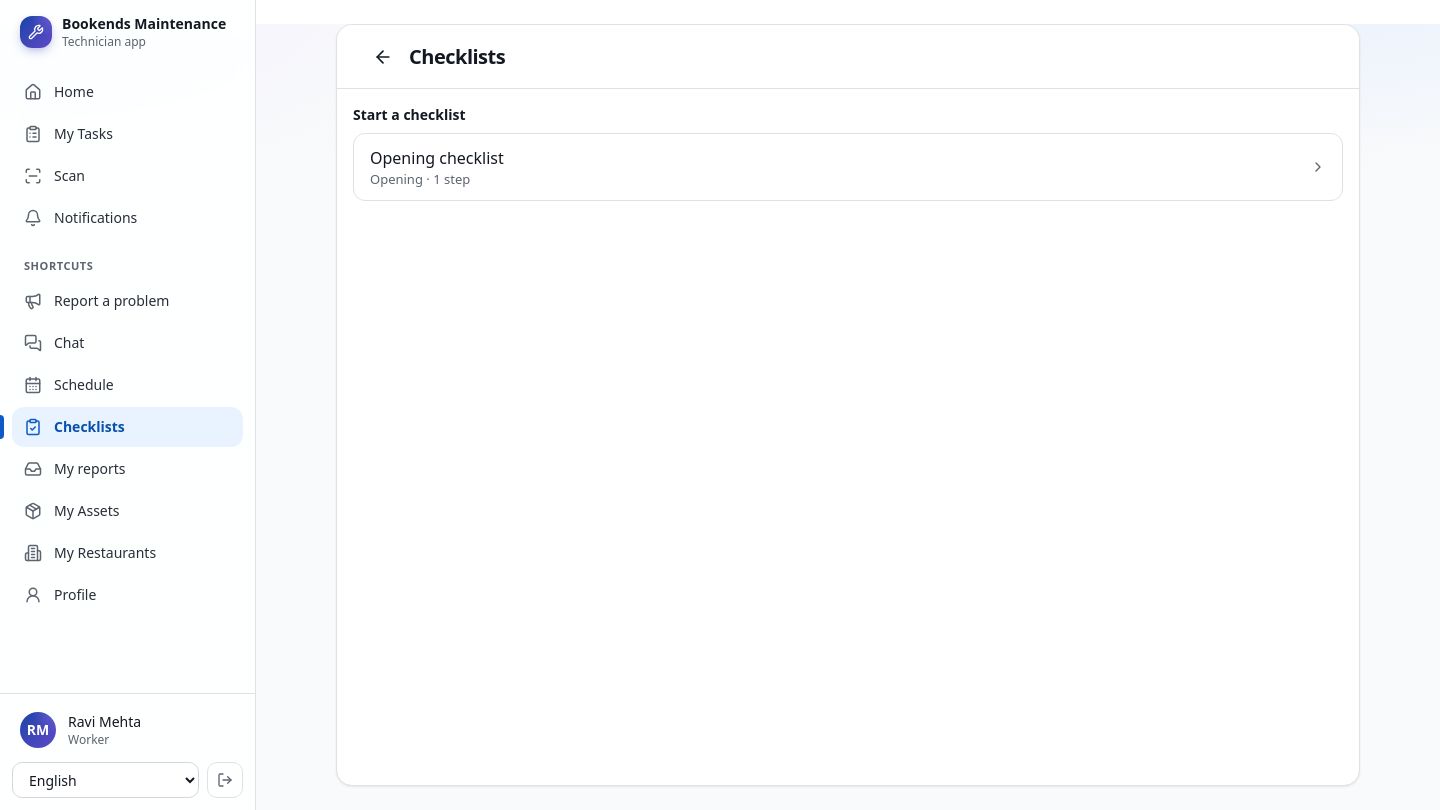
Test: worker inspection › starts a checklist, answers it and submits
The width and height of the screenshot is (1440, 810).
Click the button "Opening checklist Opening · 1 step" at {"x": 437, "y": 158}, box [353, 133, 1343, 201]
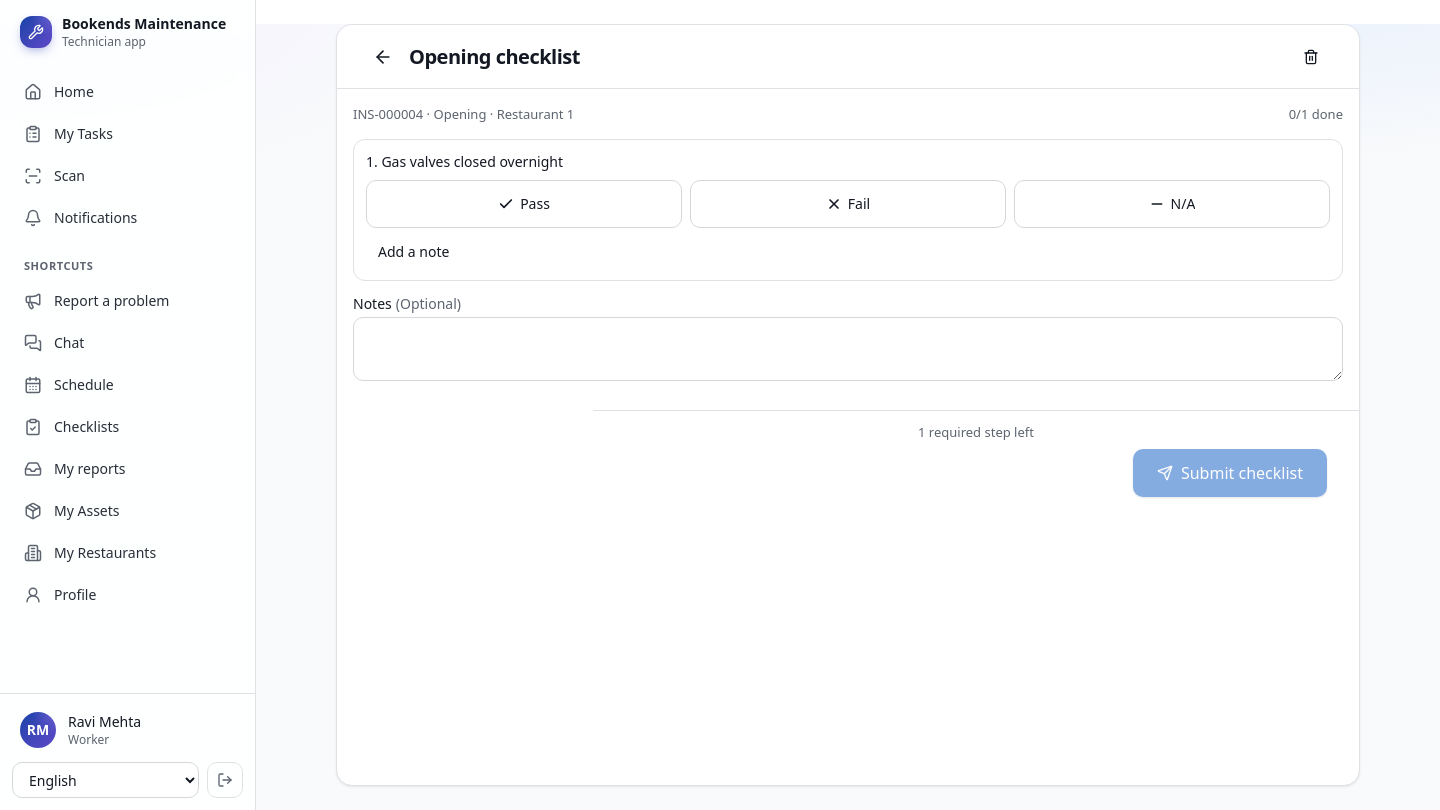
Now the button "Submit checklist" is disabled, box [1133, 449, 1327, 497]
Click the radio button labelled "Fail" at {"x": 848, "y": 204}, box [690, 180, 1006, 228]
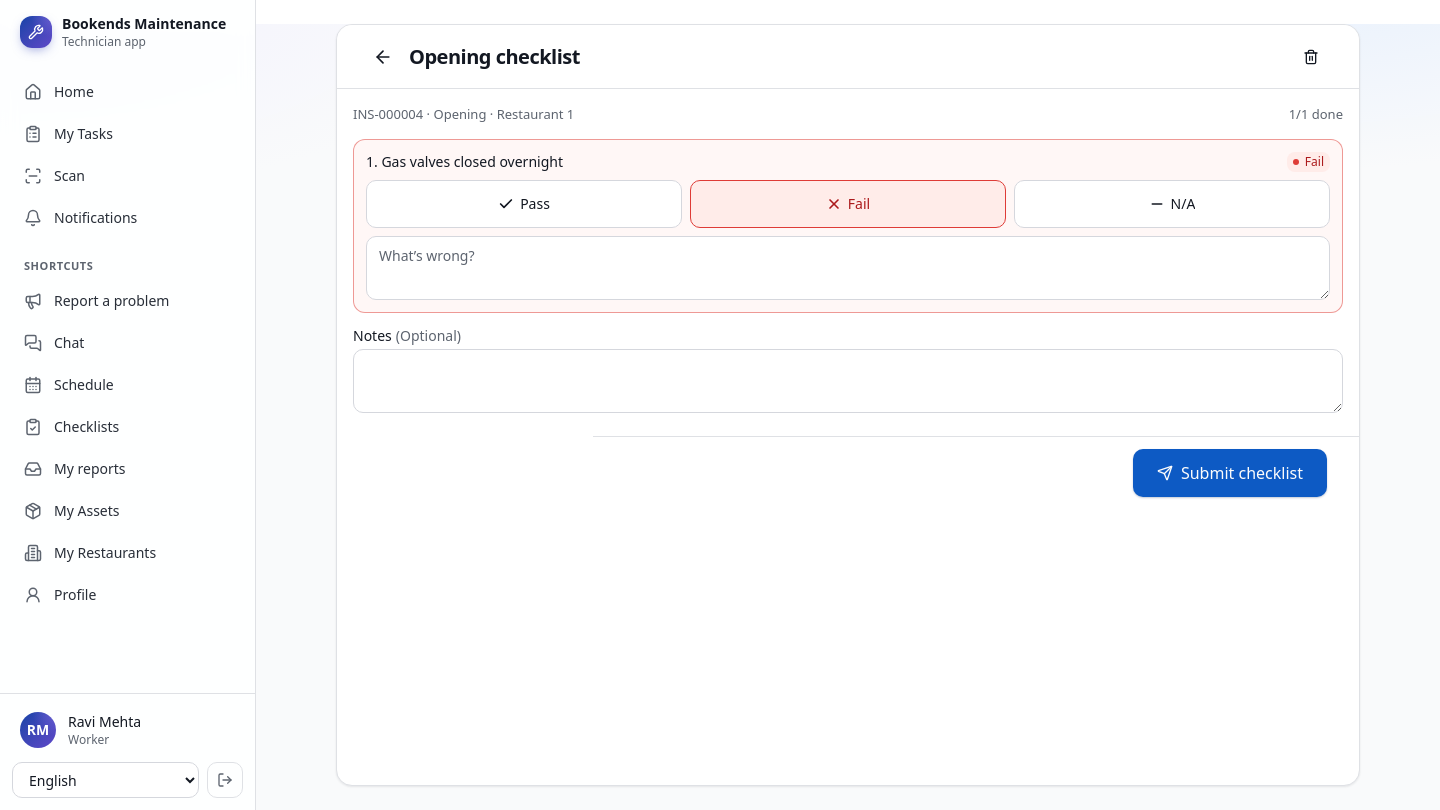
Type "Left open" into the text box named "Note for Gas valves" at {"x": 848, "y": 268}, box [366, 236, 1330, 300]
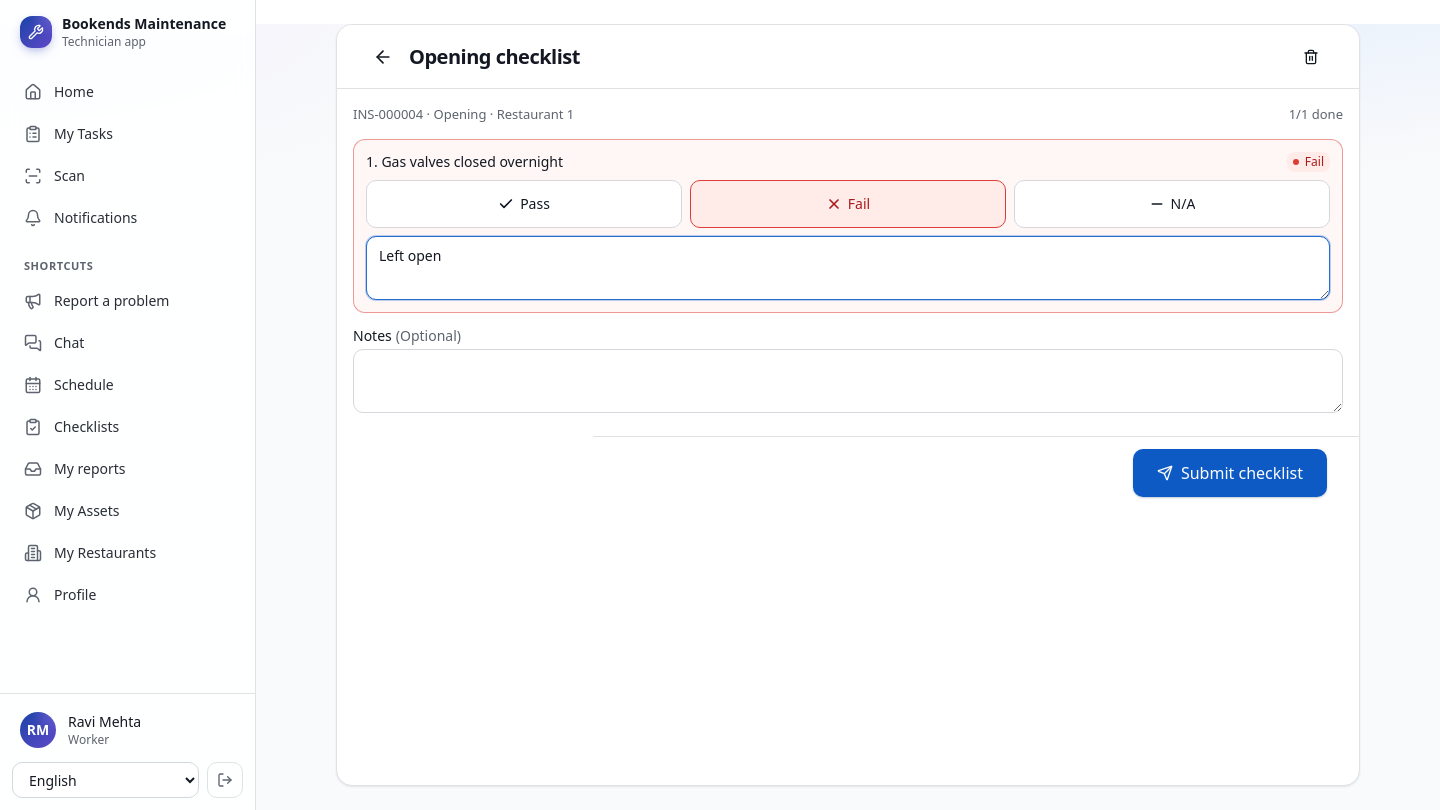
Now the button "Submit checklist" is enabled, box [1133, 449, 1327, 497]
Type "Told the manager" into the text box labelled "Notes (Optional)" at {"x": 848, "y": 381}, box [353, 349, 1343, 413]
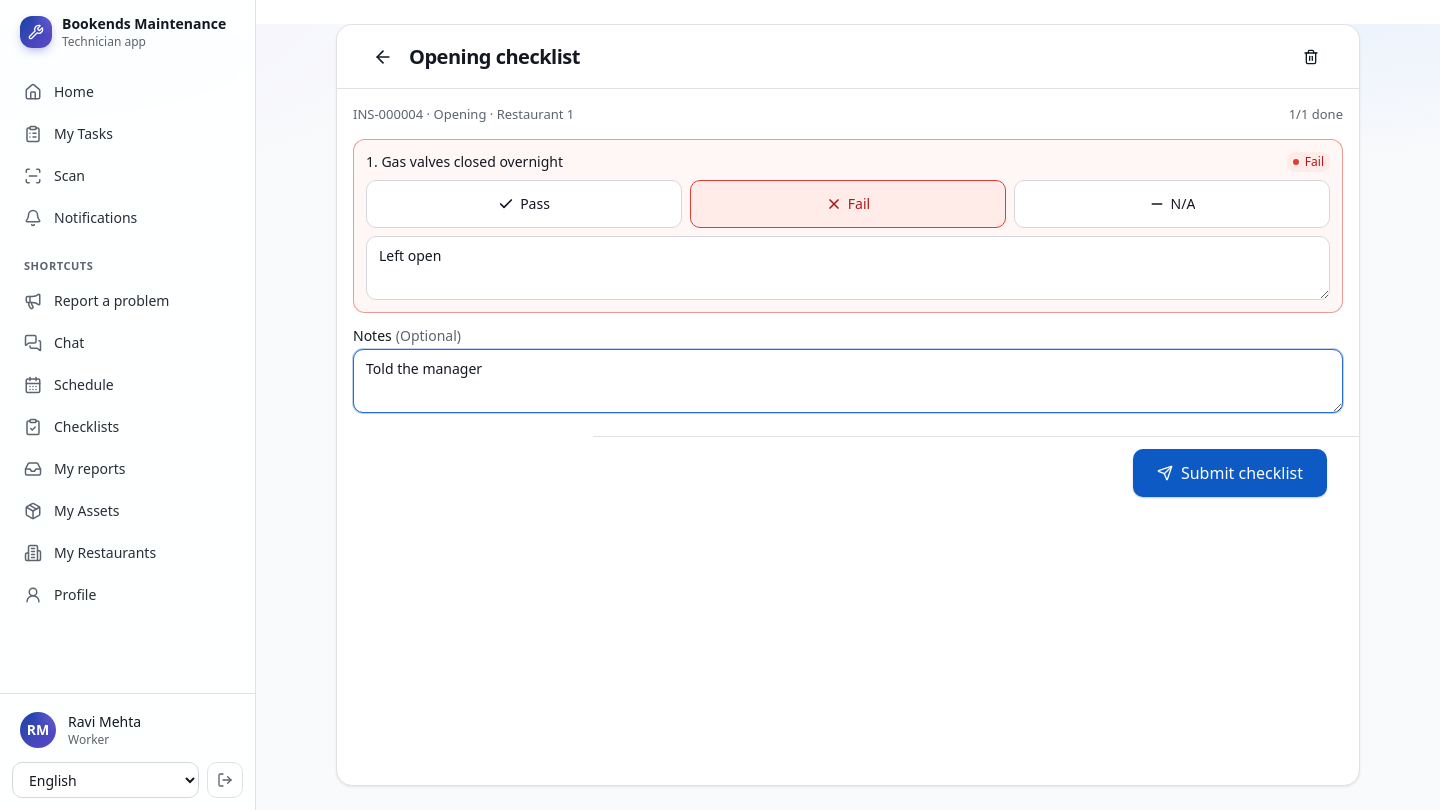
Click the button "Submit checklist" at {"x": 1230, "y": 473}, box [1133, 449, 1327, 497]
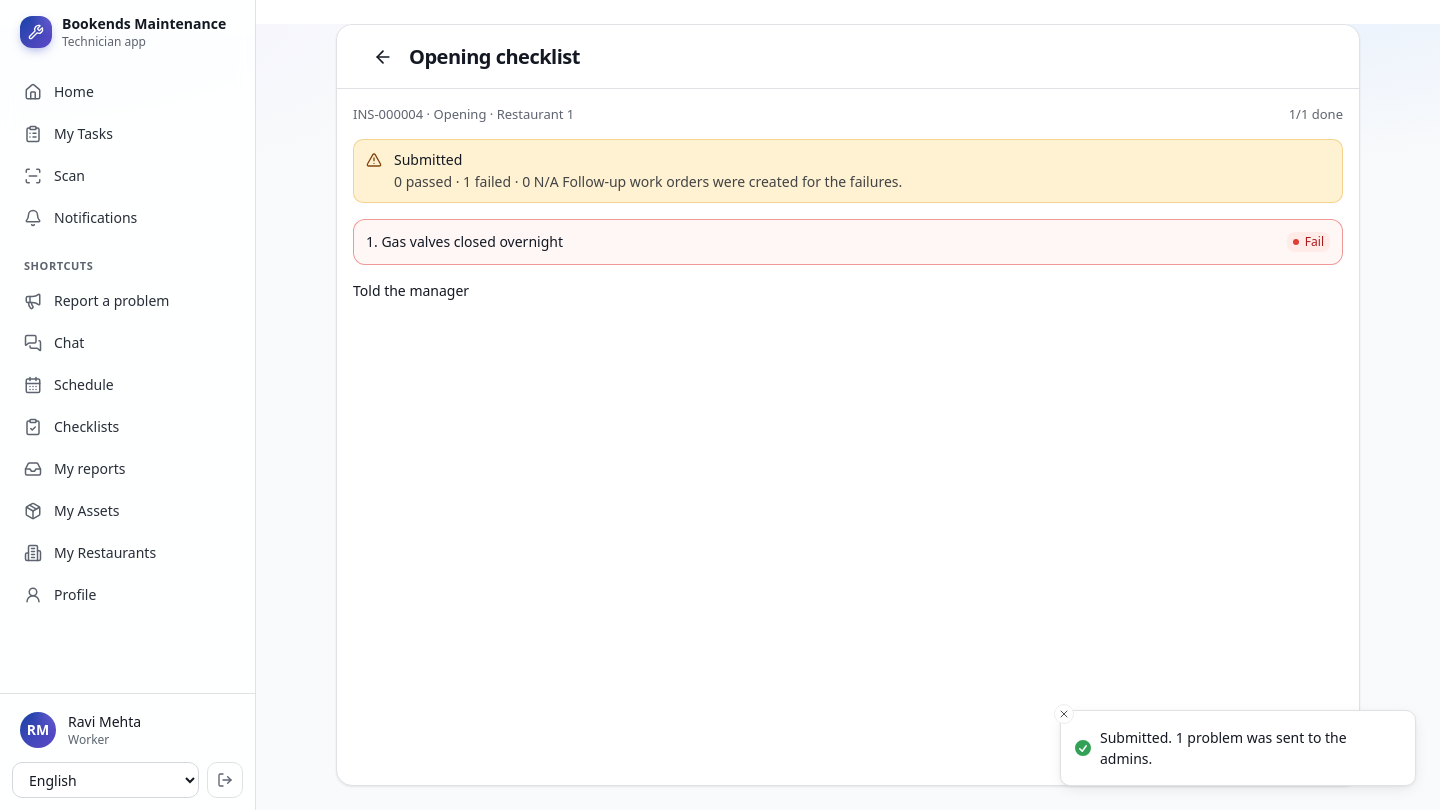
Now the text "Submitted" is shown, box [394, 150, 462, 169]
Now the text "Follow-up work orders were created" is shown, box [559, 172, 902, 191]
